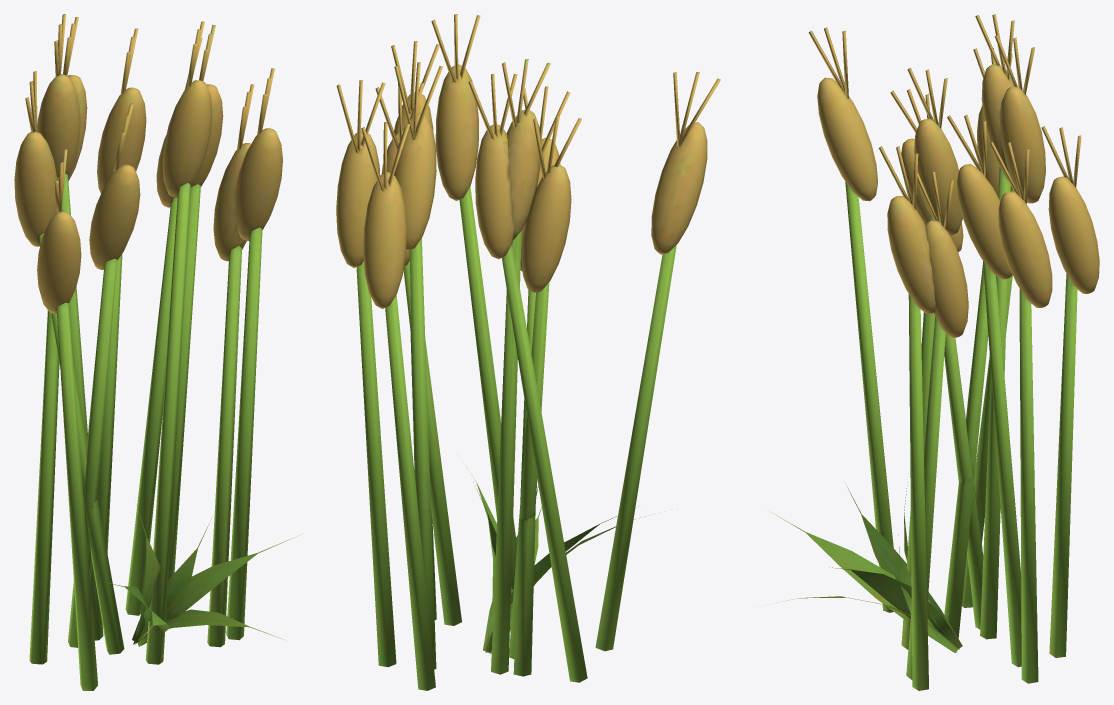
File: crop_rye.glb
The picture shows the model from 3 angles, left to right: view 1: azimuth 30°, elevation 25°; view 2: azimuth 150°, elevation 25°; view 3: azimuth 270°, elevation 25°; orthographic projection. The views are drawn at different scales.
Parts seen in each view (by area): view 1: crop_rye, fruit; view 2: crop_rye, fruit; view 3: crop_rye, fruit.
Boxes of the visible parts, x1,y1,x2,y2 form: crop_rye: (29,173,299,690); fruit: (14,14,282,313); crop_rye: (356,186,676,690); fruit: (336,14,720,308); crop_rye: (771,167,1077,690); fruit: (808,14,1099,337).
Size of the model in its own units: 0.2041 by 0.4404 by 0.2293.
1 material, 1 textured.
